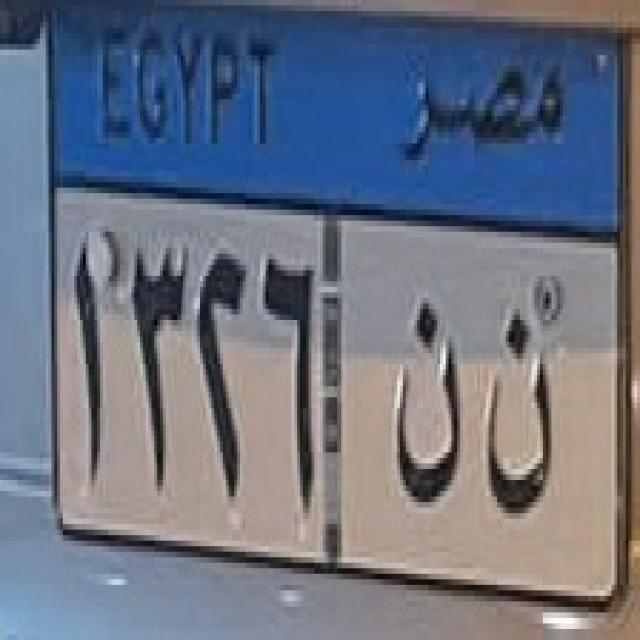1: (62, 236, 112, 504)
2: (190, 237, 254, 507)
3: (119, 239, 192, 508)
6: (246, 241, 324, 510)
Noon: (476, 289, 558, 532), (386, 286, 470, 516)
